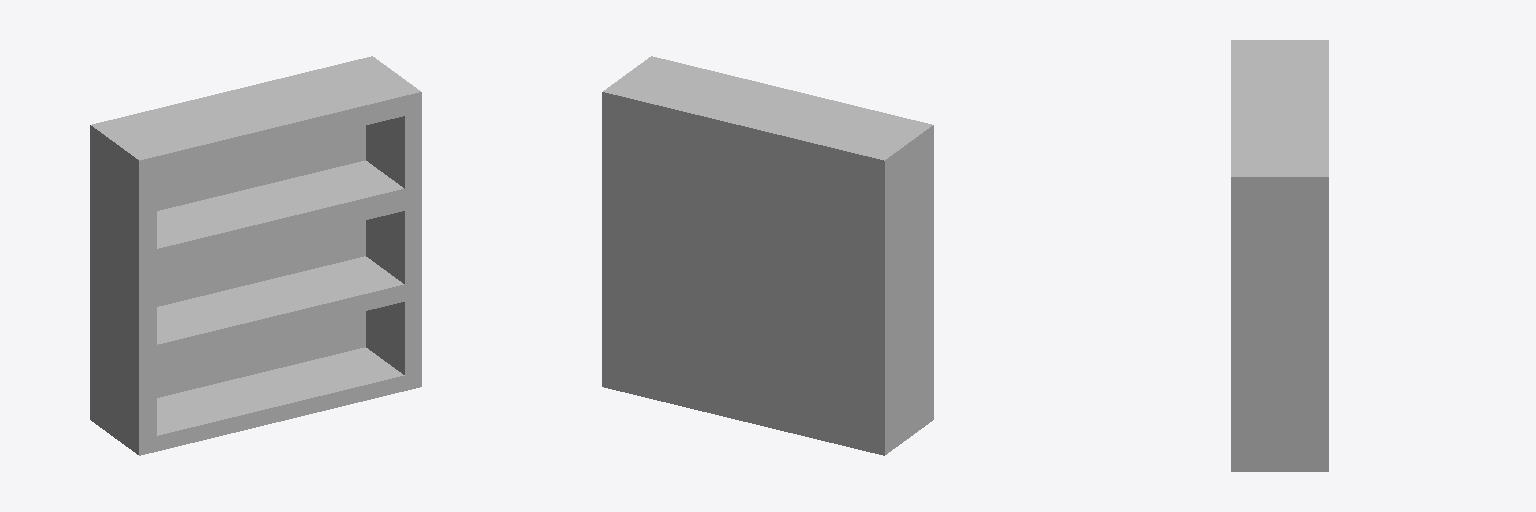
File: bookshelf.obj
3 renders of one model, left to right at view 1: azimuth 30°, elevation 25°; view 2: azimuth 150°, elevation 25°; view 3: azimuth 270°, elevation 25°, orthographic.
Visible parts, largest first — view 1: Cube; view 2: Cube; view 3: Cube.
Boxes of the visible parts, x1,y1,x2,y2 form: Cube: [90, 56, 421, 455]; Cube: [602, 56, 933, 455]; Cube: [1231, 40, 1328, 471].
Bounding box in the file's own units: 10 × 10 × 3.